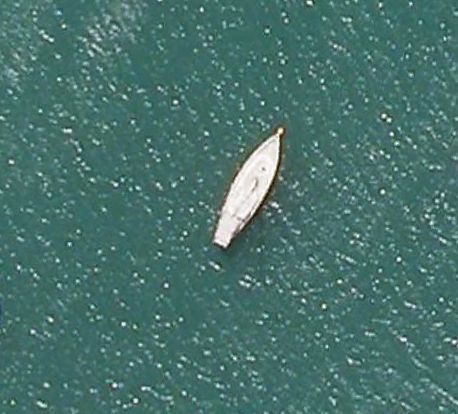boat: (212, 126, 283, 250)
